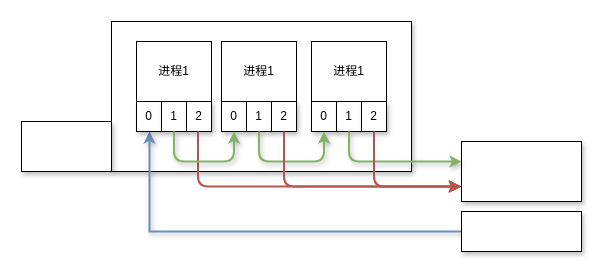
This 605x276 diagram has some shape labels left out. Each missing label, with the centre of its shape:
显示器: (x=522, y=172)
硬盘: (x=67, y=147)
键盘: (x=522, y=232)
